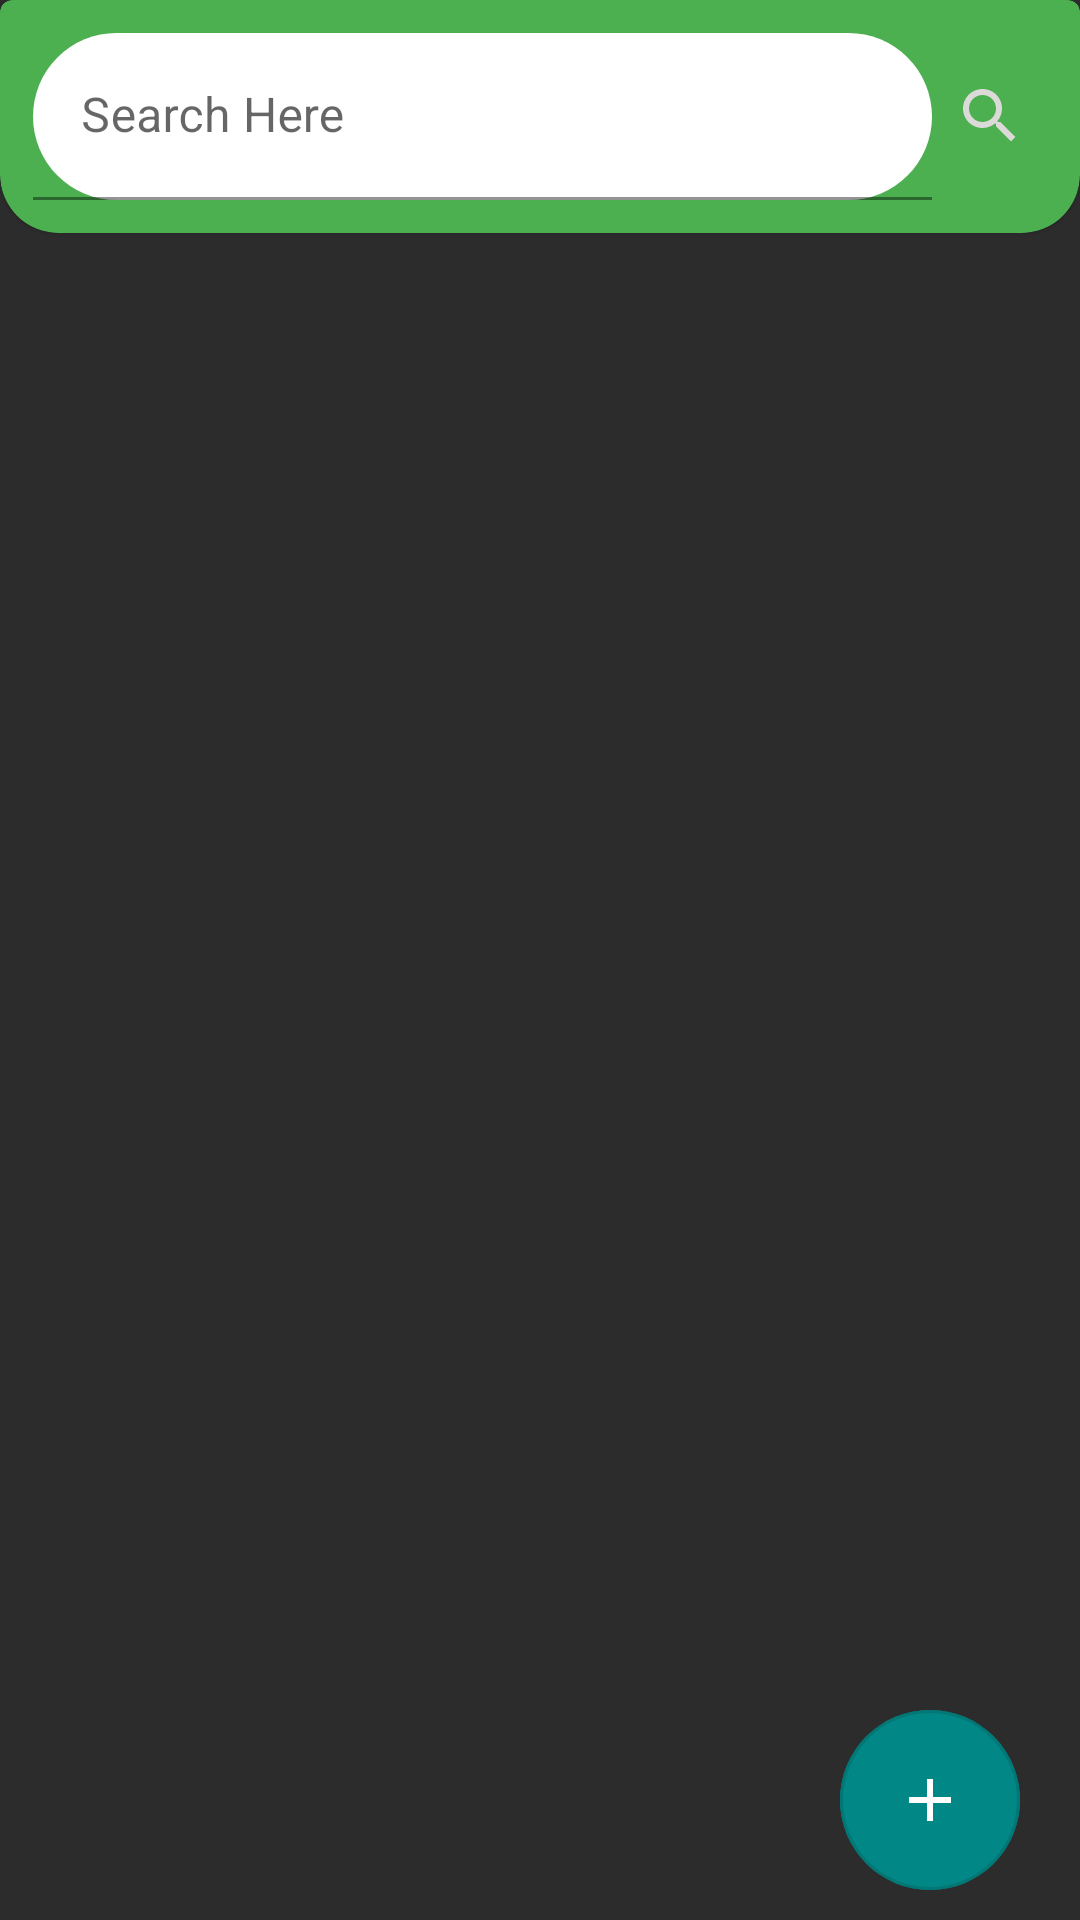

Icons on this 1080*1920 Android screen, each with its box as rect(x1, y1, x2, y2):
add: rect(840, 1710, 1020, 1890)
